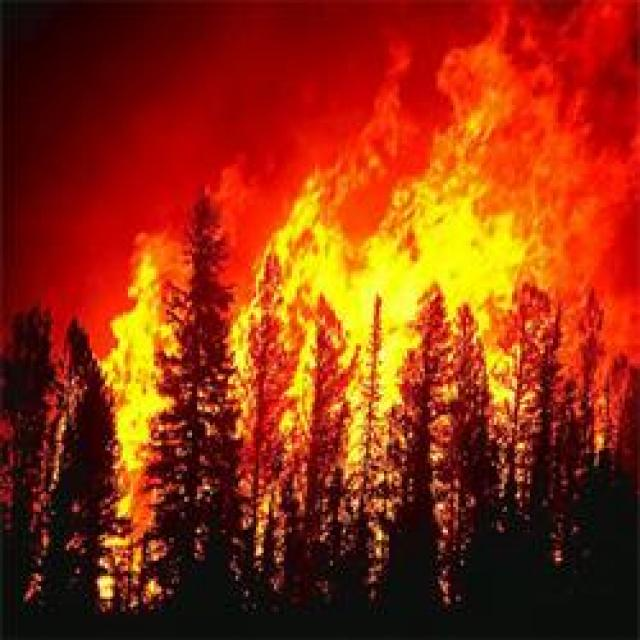fire: (300, 201, 422, 467), (102, 250, 174, 436), (436, 189, 509, 291)
